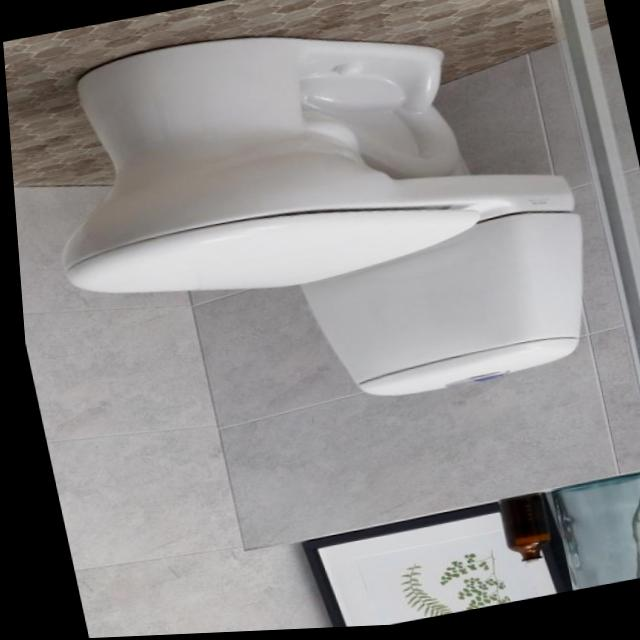toilet: (15, 0, 610, 457)
